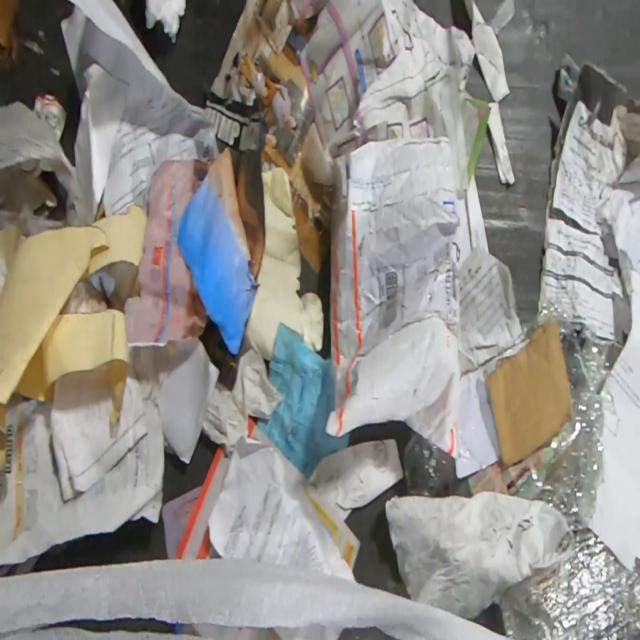cardboard: (486, 314, 576, 469)
soft_plastic: (498, 296, 640, 639), (400, 431, 456, 498)
